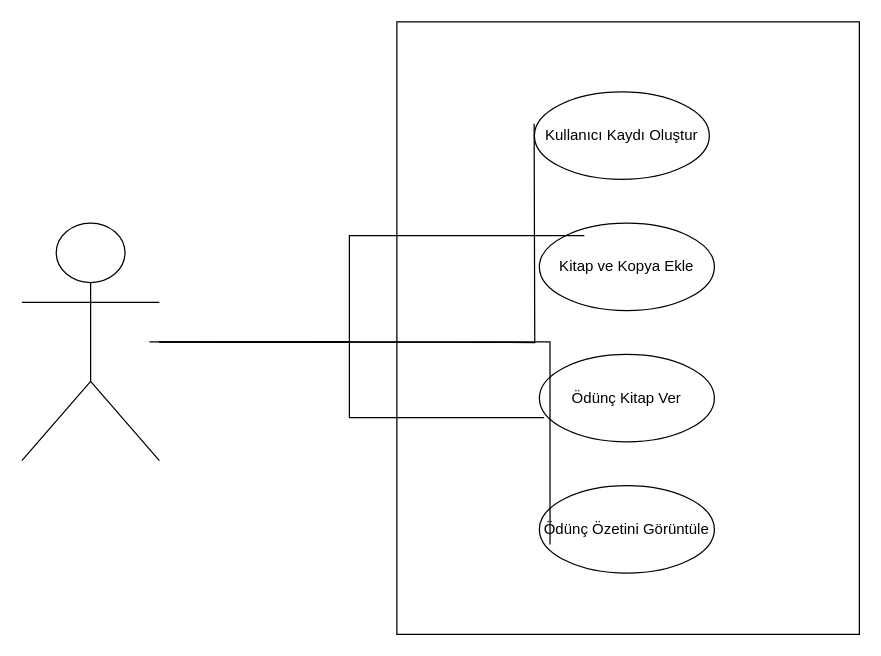
Some shapes in this 881 by 656 pixel diagram are drawn without their labels. The box of each missing label's shape, as (x1, y1, x2, y2) in pixels:
Kullanıcı: (21, 222, 159, 461)
Kütüphane Otomasyon Sistemi: (396, 21, 859, 634)
